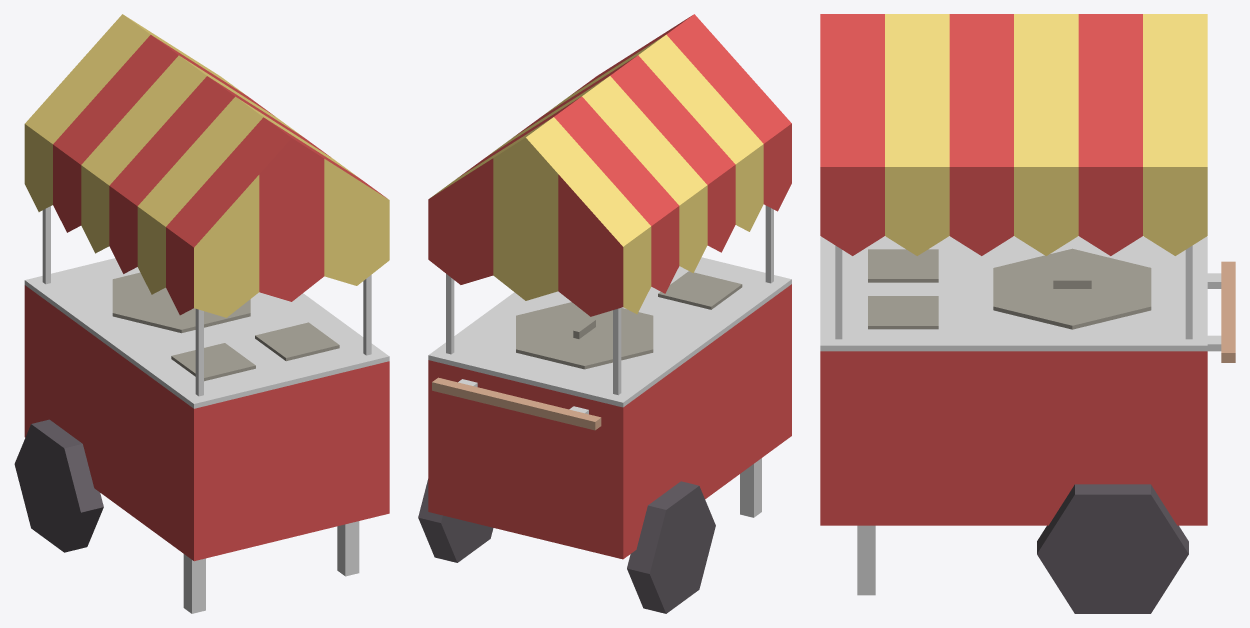
File: Hot_Dog.fbx
3 views of the same model, side by side, from view 1: azimuth 30°, elevation 25°; view 2: azimuth 150°, elevation 25°; view 3: azimuth 270°, elevation 25° (orthographic). The views are drawn at different scales.
Parts seen in each view (by area): view 1: Hot_Dog; view 2: Hot_Dog; view 3: Hot_Dog.
Boxes of the visible parts, x1,y1,x2,y2 form: Hot_Dog: (14,14,389,613); Hot_Dog: (418,14,791,613); Hot_Dog: (820,14,1235,613).
Size of the model in its own units: 93.89 by 181 by 127.
1 material, 1 textured.
